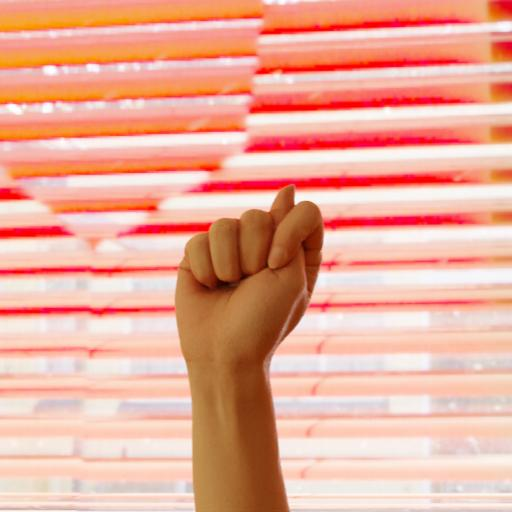T: (171, 185, 328, 349)
